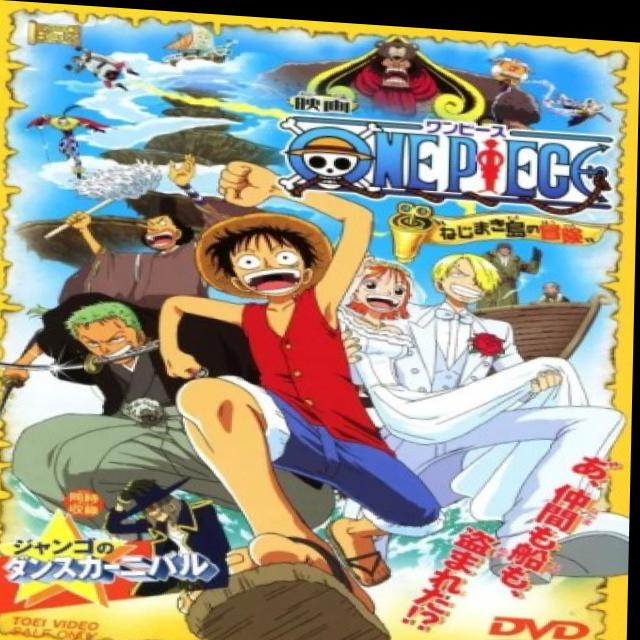Luffy: (209, 198, 336, 314)
Nami: (335, 248, 427, 321)
Sangdi: (418, 238, 514, 306)
Usopp: (140, 189, 193, 255)
Zoro: (63, 289, 154, 375)
